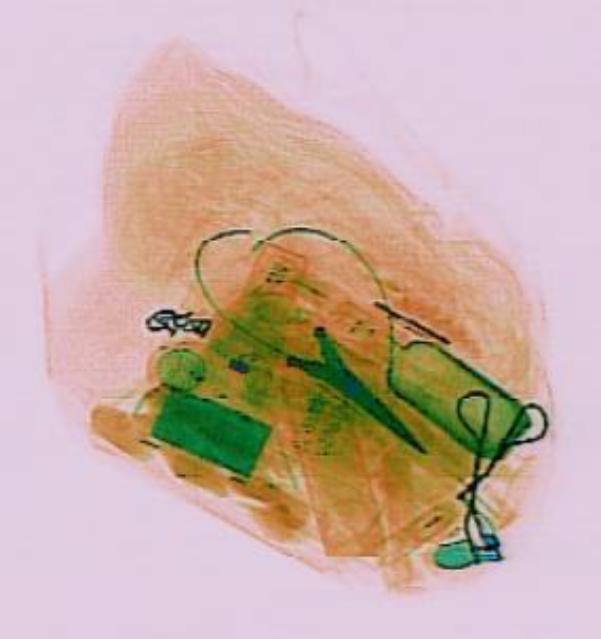Knife: (277, 318, 442, 471)
